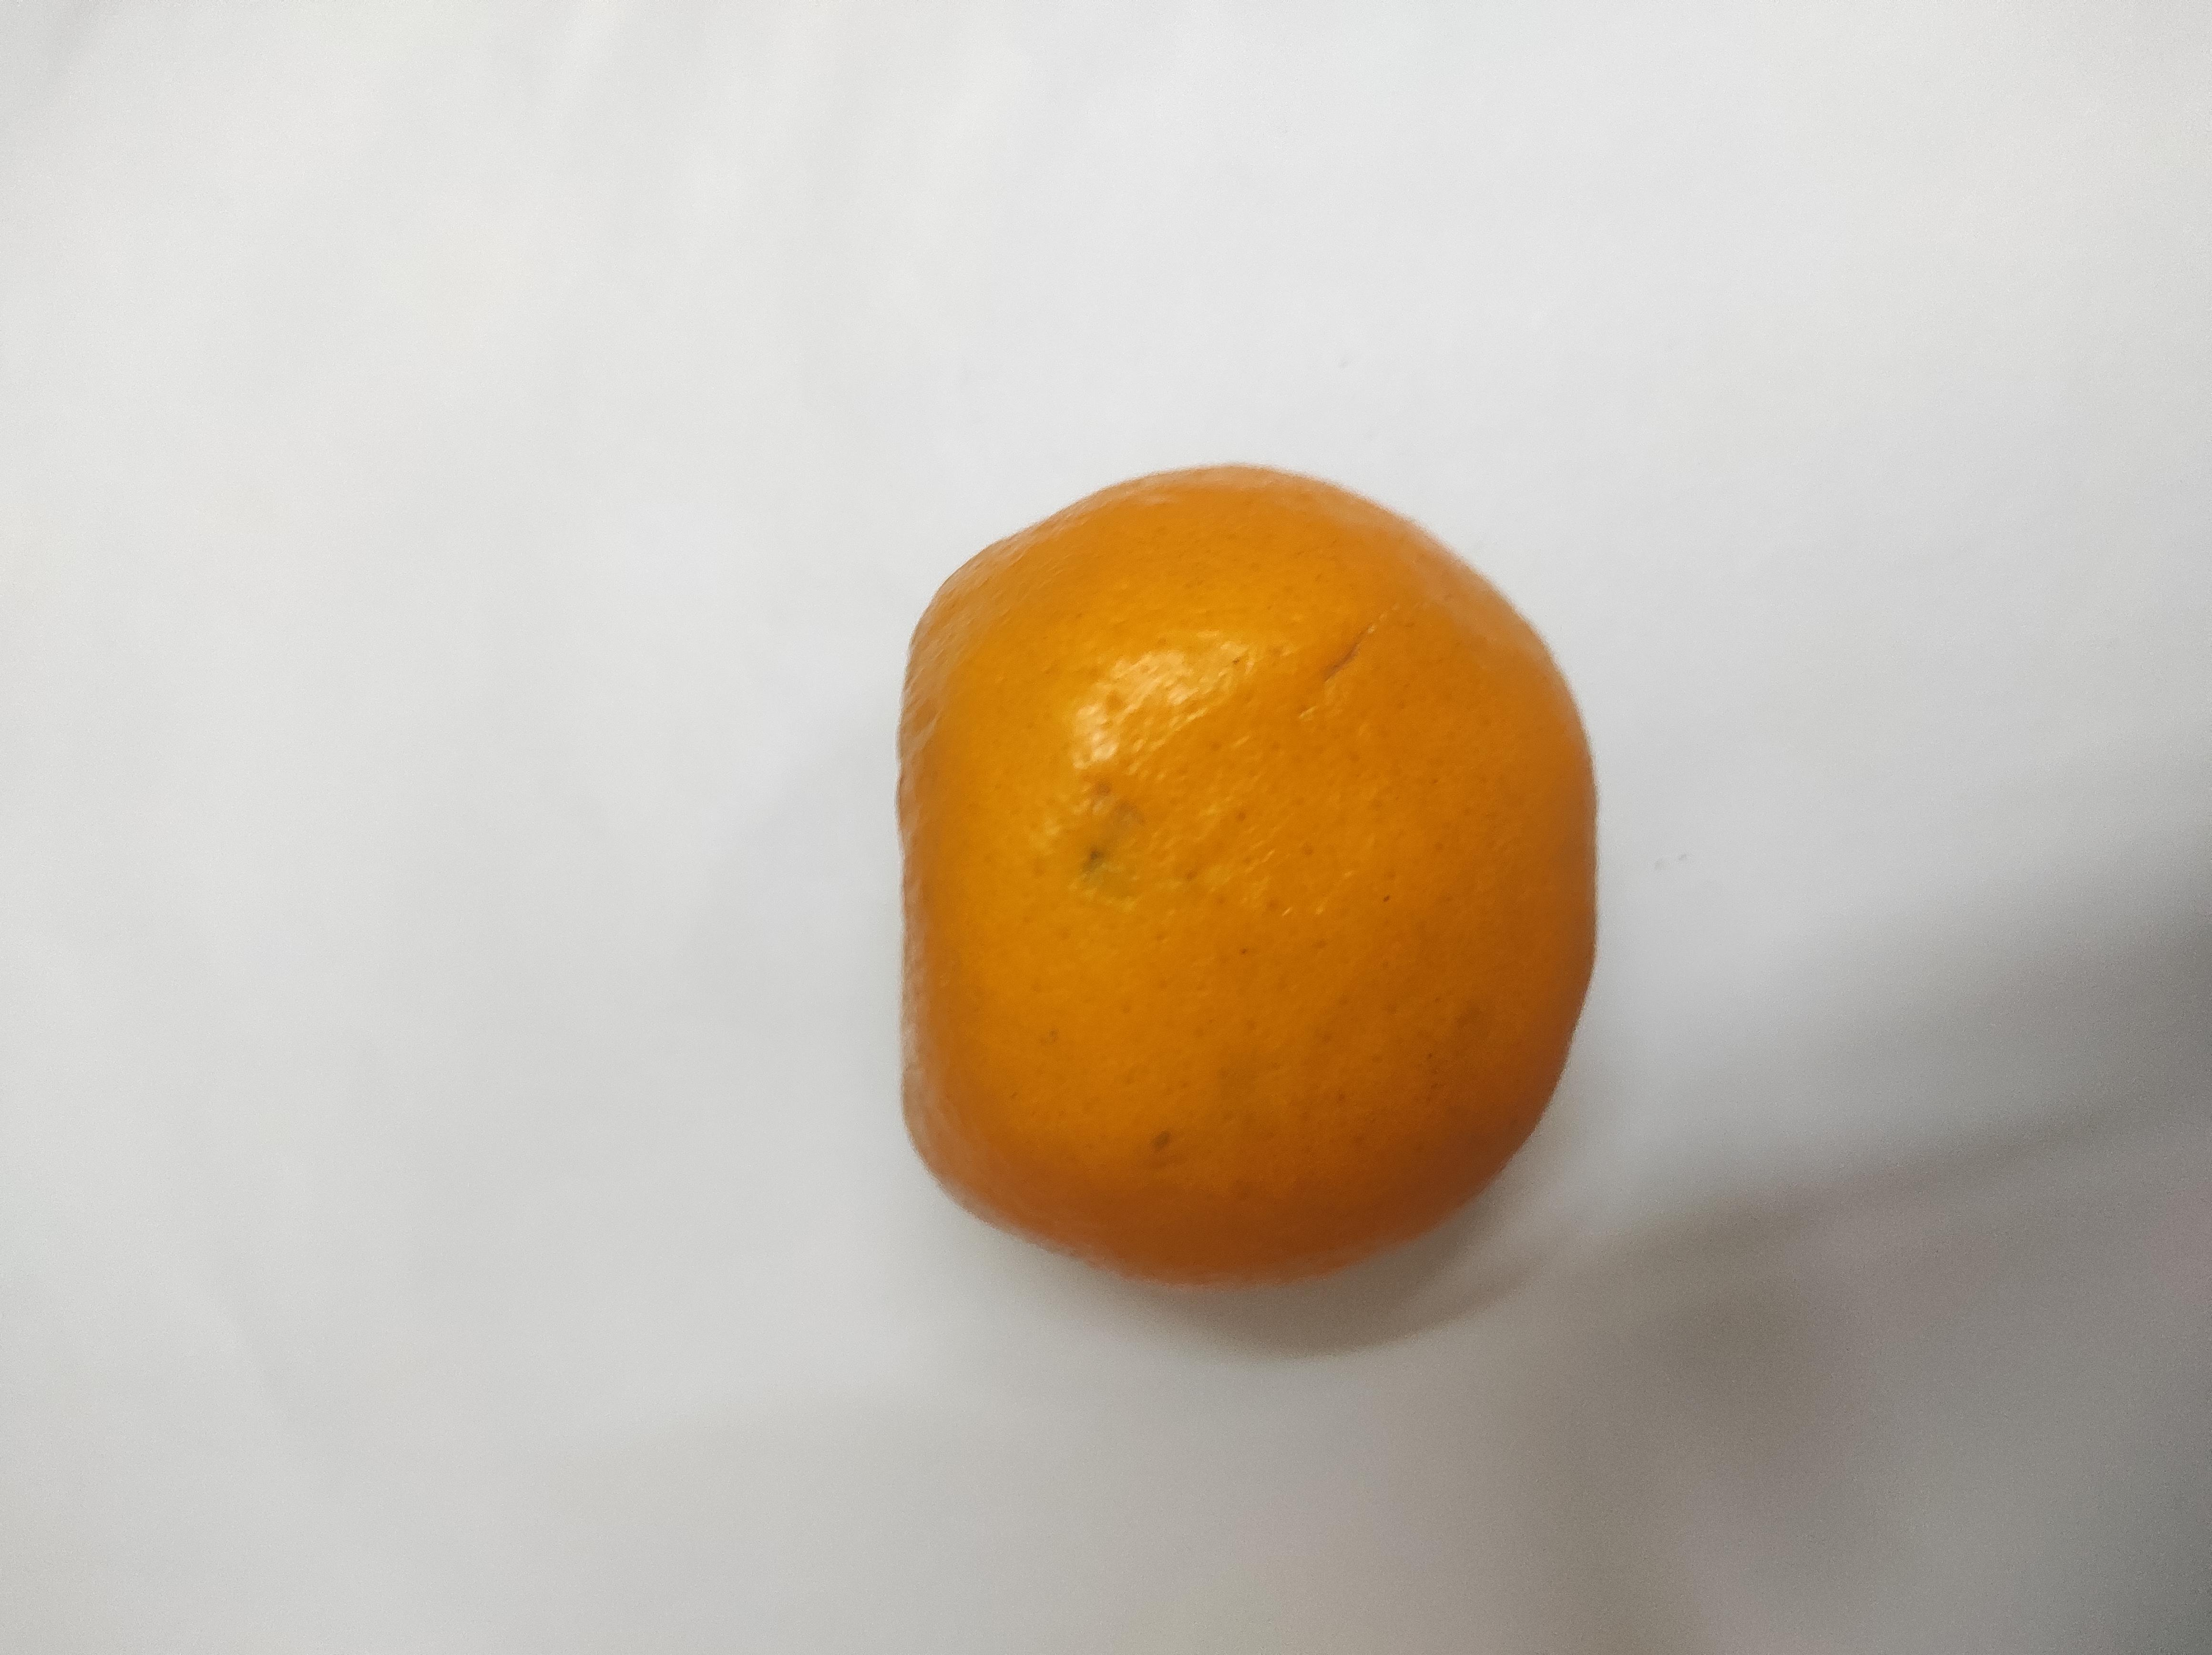Ripe: (892, 468, 1612, 1278)
